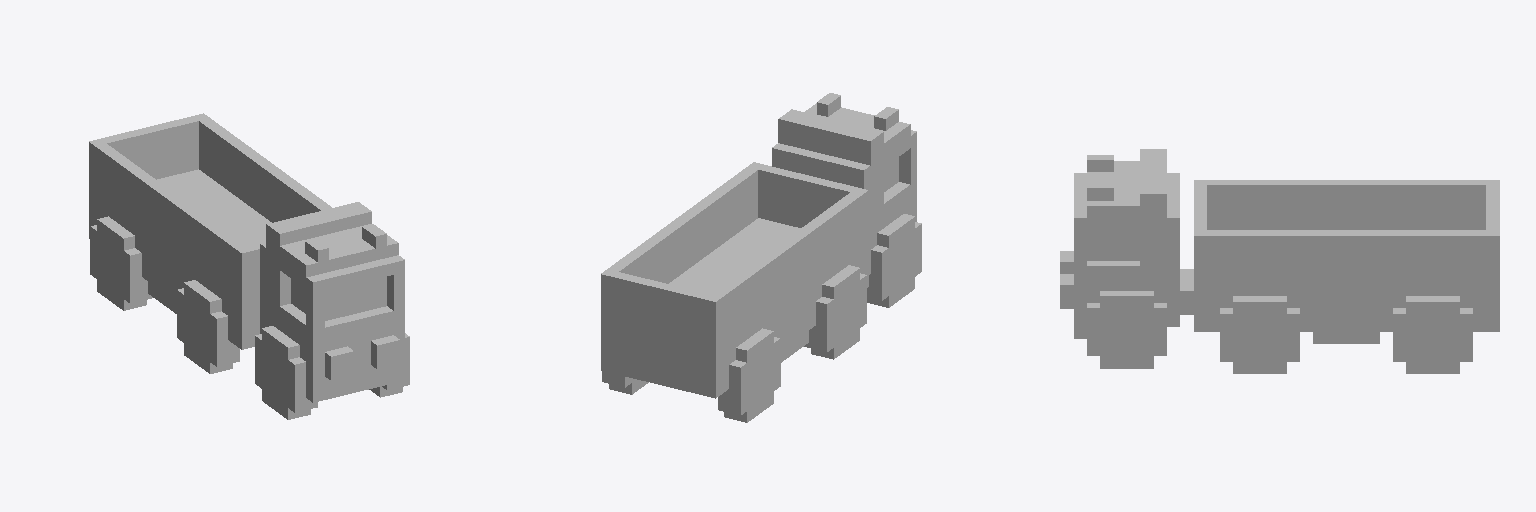
Rendered from truck.obj.
3 views of the same model, side by side, from view 1: azimuth 30°, elevation 25°; view 2: azimuth 150°, elevation 25°; view 3: azimuth 270°, elevation 25° (orthographic).
Visible parts, largest first — view 1: object 1; view 2: object 1; view 3: object 1.
Part boxes in pixels (x1,y1,x2,y2): object 1: (89,113,409,419); object 1: (601,93,921,422); object 1: (1060,149,1499,373).
Size of the model in its own units: 1.2 by 1.4 by 3.3.